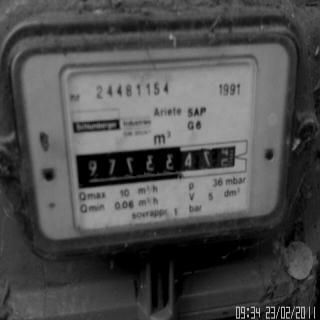4: (144, 153, 157, 175), (164, 152, 176, 172)
5: (184, 151, 195, 172)
8: (106, 156, 119, 178), (125, 154, 137, 176), (202, 148, 213, 169)
object: (86, 156, 99, 180)
